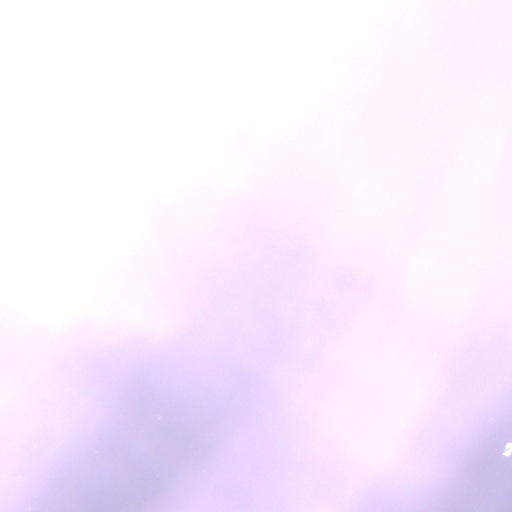Iceberg: (503, 442, 511, 455)
